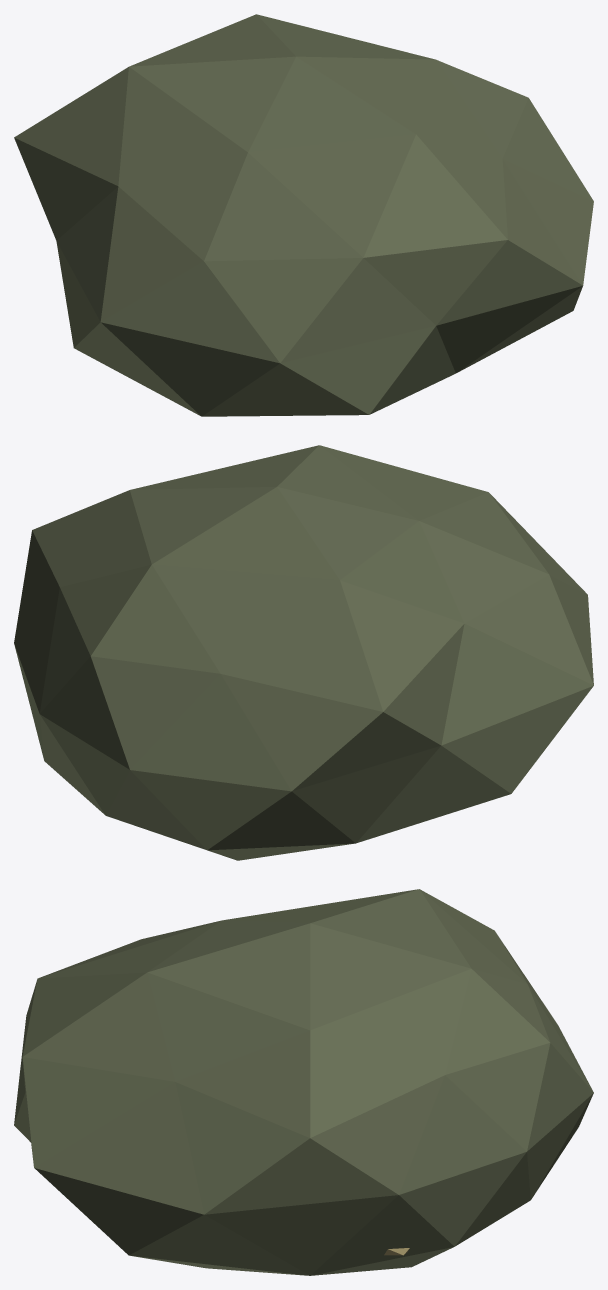
The model's file is rockMass4.obj.
3 views of the same model, one above another, from view 1: azimuth 30°, elevation 25°; view 2: azimuth 150°, elevation 25°; view 3: azimuth 270°, elevation 25° (orthographic). The views are drawn at different scales.
Visible parts, largest first — view 1: rockMass4; view 2: rockMass4; view 3: rockMass4.
Boxes of the visible parts, box(x1,y1,x2,y2) form: rockMass4: box(14, 14, 593, 416); rockMass4: box(14, 445, 593, 860); rockMass4: box(14, 889, 593, 1275).
Bounding box in the file's own units: 1.75 × 1 × 1.75.
1 material, 1 textured.
